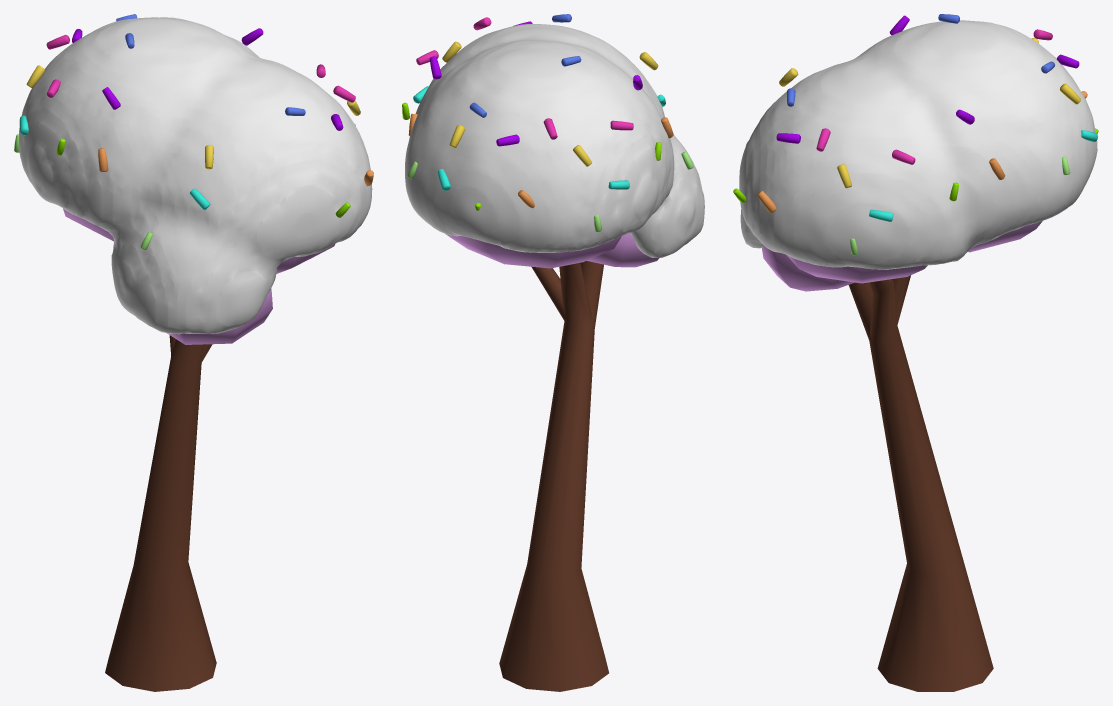
File: tree.glb
The picture shows the model from 3 angles, left to right: view 1: azimuth 30°, elevation 25°; view 2: azimuth 150°, elevation 25°; view 3: azimuth 270°, elevation 25°; orthographic projection. The views are drawn at different scales.
Visible parts, largest first — view 1: Object_2, Object_4, Object_3, Object_8, Object_9, Object_10; view 2: Object_2, Object_4, Object_3, Object_10, Object_8, Object_11, Object_9, Object_7; view 3: Object_2, Object_4, Object_3, Object_9, Object_10, Object_8.
Part boxes in pixels (box(x1,y1,x2,y2)): Object_2: box(19, 17, 372, 334); Object_4: box(105, 335, 216, 691); Object_3: box(63, 208, 334, 344); Object_8: box(46, 34, 355, 102); Object_9: box(72, 28, 343, 130); Object_10: box(26, 65, 360, 169); Object_2: box(405, 24, 704, 257); Object_4: box(499, 261, 608, 691); Object_3: box(445, 233, 659, 268); Object_10: box(442, 41, 658, 166); Object_8: box(416, 17, 633, 139); Object_11: box(413, 86, 665, 190); Object_9: box(429, 21, 642, 146); Object_7: box(469, 14, 581, 117); Object_2: box(739, 20, 1097, 269); Object_4: box(848, 275, 993, 691); Object_3: box(762, 221, 1042, 291); Object_9: box(776, 15, 1079, 143); Object_10: box(779, 38, 1080, 188); Object_8: box(816, 29, 1052, 164).
Bounding box in the file's own units: 5.58 × 12.21 × 6.29.
